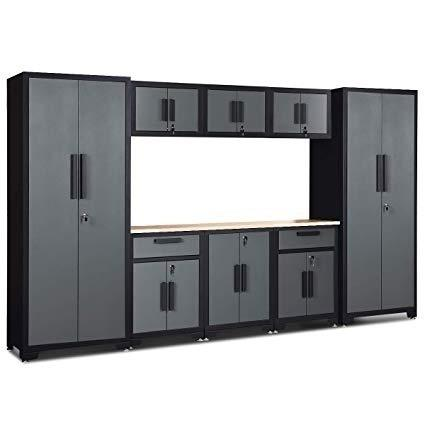cabinet_door: (28, 77, 73, 346), (80, 82, 124, 345), (350, 93, 382, 313), (384, 95, 413, 311), (210, 235, 241, 326), (238, 235, 268, 322), (132, 263, 166, 332), (167, 260, 199, 328), (278, 254, 308, 319), (308, 252, 335, 316), (133, 232, 198, 257), (134, 88, 168, 131), (170, 89, 200, 131), (278, 227, 335, 248), (209, 92, 238, 130), (238, 93, 266, 132), (302, 94, 328, 135), (273, 94, 300, 133)
handle: (153, 235, 184, 246), (167, 281, 178, 312), (79, 151, 86, 199), (70, 151, 77, 199), (382, 153, 390, 193), (159, 281, 168, 313), (300, 269, 309, 300), (376, 153, 383, 192), (233, 263, 241, 294), (240, 264, 248, 295), (308, 270, 316, 300), (297, 229, 320, 239), (237, 100, 245, 124), (229, 100, 237, 123), (169, 99, 176, 125), (160, 98, 167, 123), (301, 102, 308, 126), (294, 102, 301, 125)
